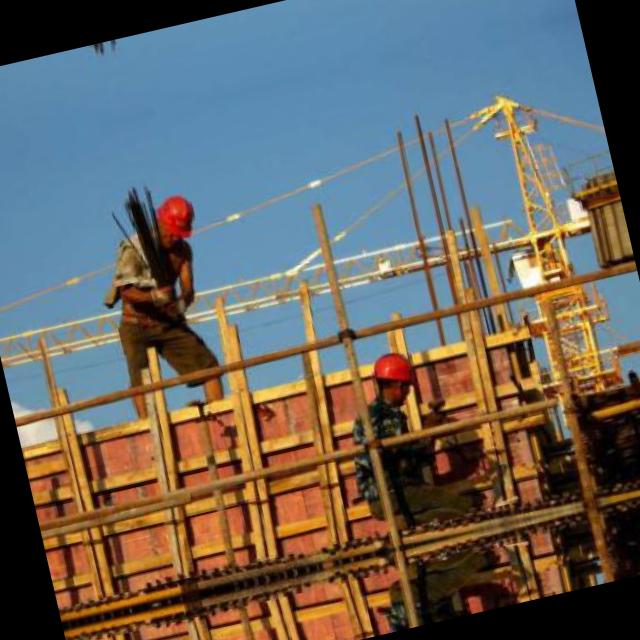helmet: (150, 189, 202, 256), (364, 346, 419, 407)
